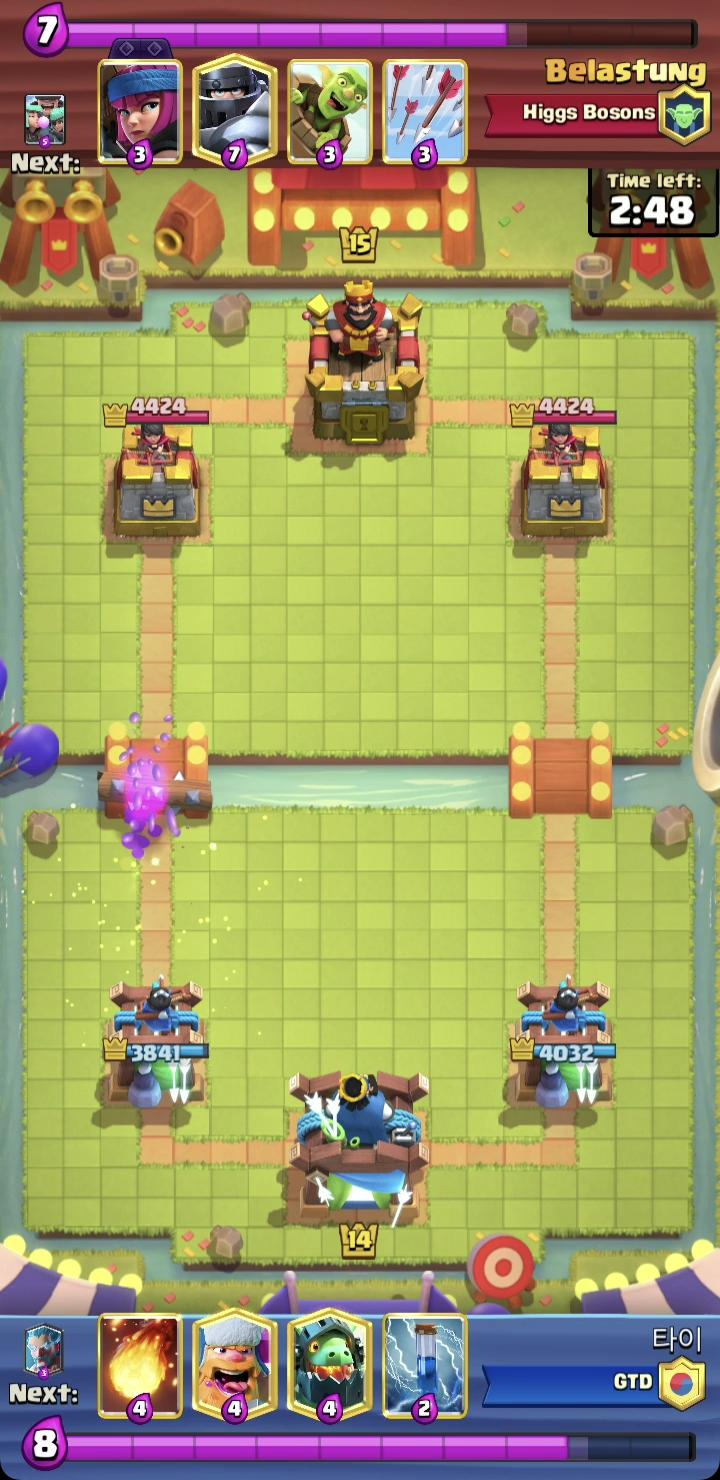ally_log: (93, 768, 215, 820)
